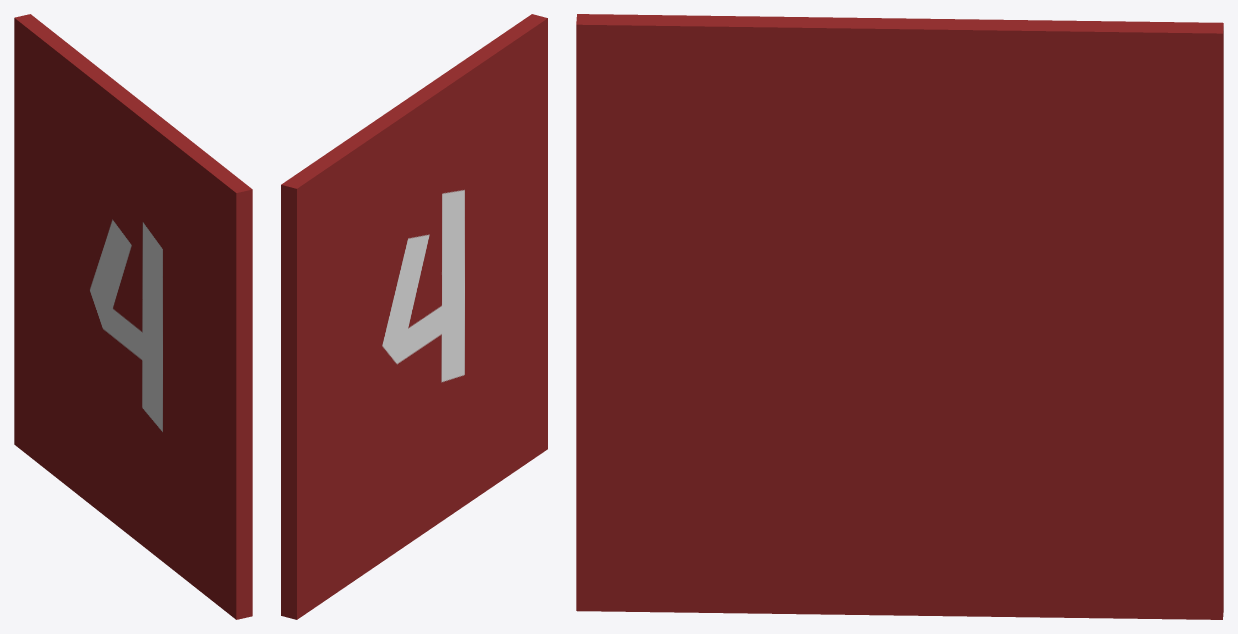
The model's file is flap03.glb.
3 renders of one model, left to right at view 1: azimuth 30°, elevation 25°; view 2: azimuth 150°, elevation 25°; view 3: azimuth 270°, elevation 25°, orthographic. The views are drawn at different scales.
Parts seen in each view (by area): view 1: flap.003; view 2: flap.003; view 3: flap.003.
Part boxes in pixels (<box>): flap.003: <box>14,14,252,619</box>; flap.003: <box>281,14,547,619</box>; flap.003: <box>576,14,1223,619</box>.
Bounding box in the file's own units: 0.0179 × 0.25 × 0.2502.
1 material, 1 textured.
